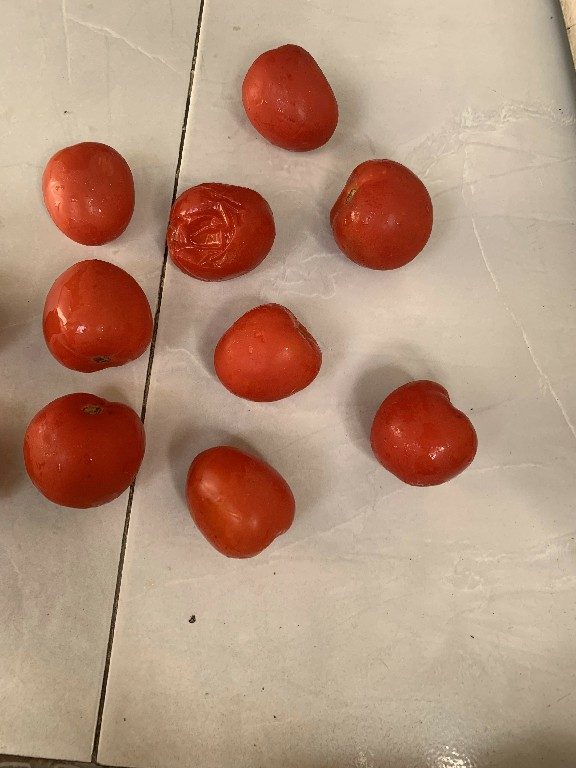NG: (163, 174, 284, 288)
OK: (18, 387, 147, 511), (175, 440, 303, 561), (232, 38, 356, 159), (36, 254, 154, 376), (321, 151, 431, 269), (36, 131, 145, 248), (365, 380, 480, 490), (209, 296, 324, 392)
